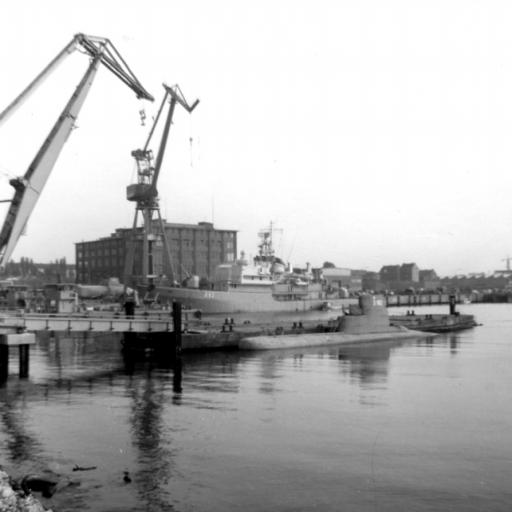submarine: (239, 292, 438, 353)
